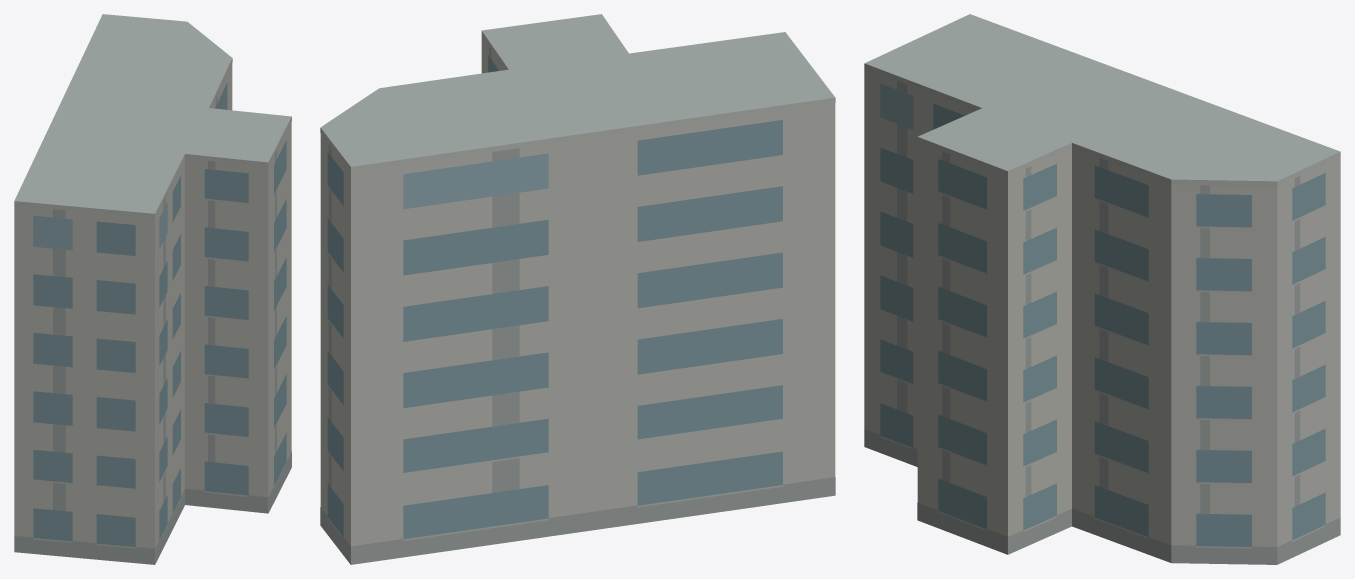
The model's file is residential-4b912033-832e-4e81-9eaf-2e16da814372.glb.
The picture shows the model from 3 angles, left to right: view 1: azimuth 30°, elevation 25°; view 2: azimuth 150°, elevation 25°; view 3: azimuth 270°, elevation 25°; orthographic projection. The views are drawn at different scales.
Visible parts, largest first — view 1: residential-4b912033-832e-4e81-9eaf-2e16da814372.tmp; view 2: residential-4b912033-832e-4e81-9eaf-2e16da814372.tmp; view 3: residential-4b912033-832e-4e81-9eaf-2e16da814372.tmp.
Boxes of the visible parts, left/top/right/bottom form: residential-4b912033-832e-4e81-9eaf-2e16da814372.tmp: left=14, top=14, right=291, bottom=564; residential-4b912033-832e-4e81-9eaf-2e16da814372.tmp: left=320, top=14, right=835, bottom=564; residential-4b912033-832e-4e81-9eaf-2e16da814372.tmp: left=864, top=14, right=1340, bottom=564.
Size of the model in its own units: 17.13 by 18.3 by 20.59.
